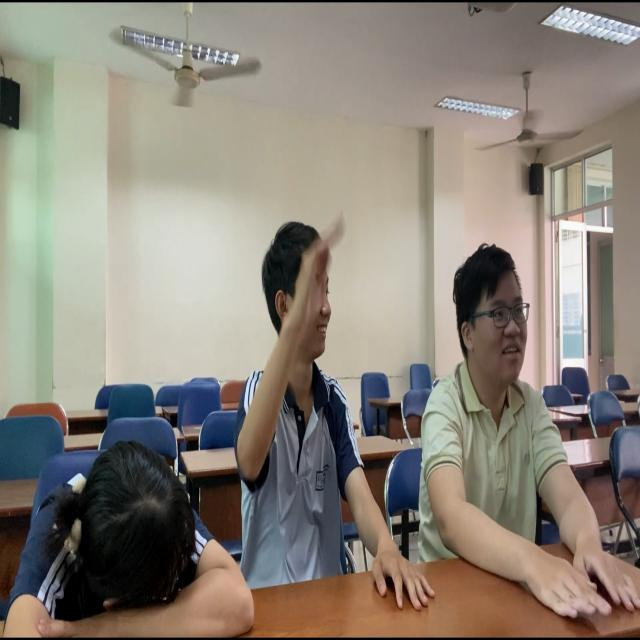raise_hand: (255, 202, 363, 591)
sleep: (7, 430, 259, 640)
